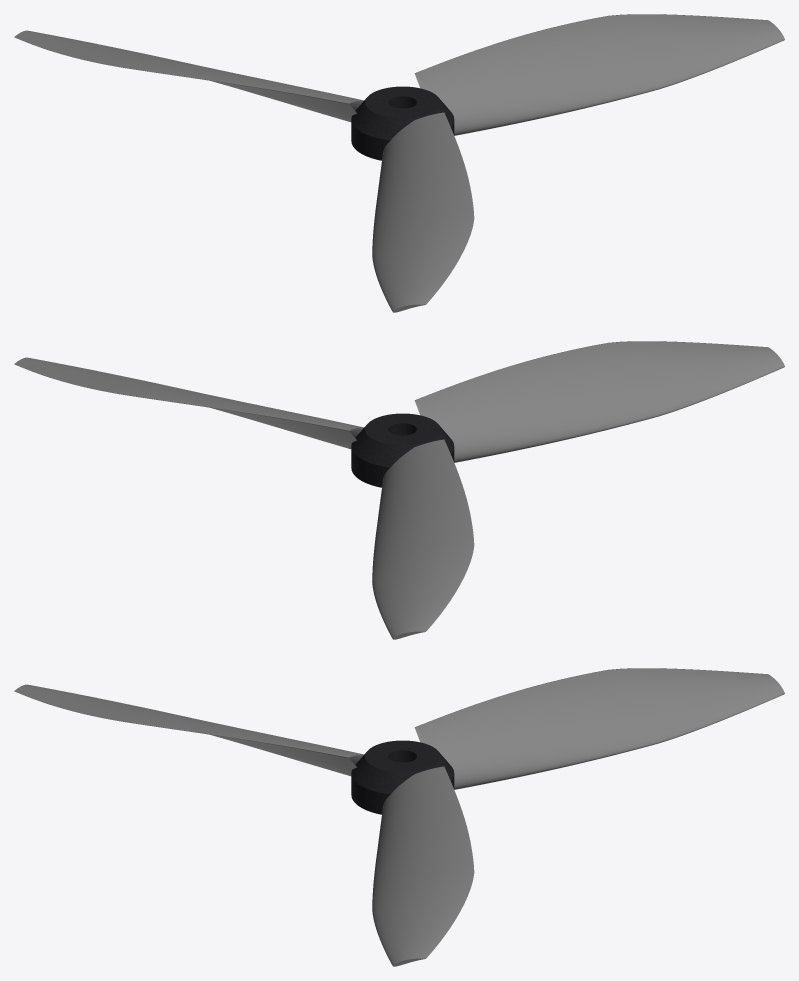
Rendered from fpv_propeller.obj.
3 renders of one model, top to bottom at view 1: azimuth 30°, elevation 25°; view 2: azimuth 150°, elevation 25°; view 3: azimuth 270°, elevation 25°, orthographic.
Visible parts, largest first — view 1: blade_1, blade_2, blade_3, hub; view 2: blade_2, blade_3, blade_1, hub; view 3: blade_3, blade_1, blade_2, hub.
Part boxes in pixels (<box>): blade_1: <box>414,14,784,135</box>; blade_2: <box>372,112,474,312</box>; blade_3: <box>14,30,363,122</box>; hub: <box>351,86,454,160</box>; blade_2: <box>414,341,784,462</box>; blade_3: <box>372,439,474,639</box>; blade_1: <box>14,357,363,449</box>; hub: <box>351,413,454,487</box>; blade_3: <box>414,668,784,789</box>; blade_1: <box>372,766,474,966</box>; blade_2: <box>14,684,363,776</box>; hub: <box>351,740,454,814</box>.
Bounding box in the file's own units: 9.82 × 0.7425 × 11.24.
1 material, 1 textured.
